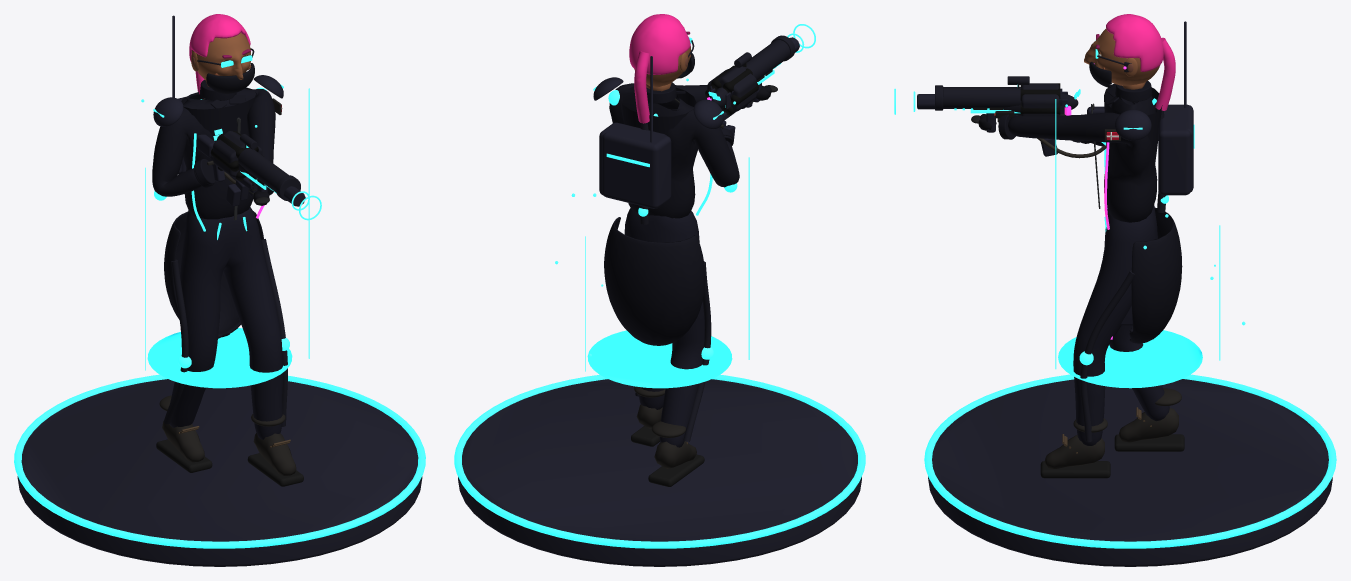
The model's file is kaster_neon.glb.
3 renders of one model, left to right at view 1: azimuth 30°, elevation 25°; view 2: azimuth 150°, elevation 25°; view 3: azimuth 270°, elevation 25°, orthographic.
Parts seen in each view (by area): view 1: fod_net, menneske_net, op4.002_net, hoved_net, vaaben_net, op4.001_net, op3.001_net, op3_net; view 2: fod_net, menneske_net, op4.001_net, op4.002_net, hoved_net, vaaben_net, op3.001_net, ned4_net; view 3: fod_net, menneske_net, op4.002_net, hoved_net, vaaben_net, ned4_net, op4.001_net, op3.001_net.
Boxes of the visible parts, x1,y1,x2,y2 form: fod_net: (14,374,425,566); menneske_net: (152,79,303,486); op4.002_net: (141,88,309,388); hoved_net: (189,14,254,94); vaaben_net: (196,131,300,200); op4.001_net: (154,87,289,426); op3.001_net: (153,15,283,126); op3_net: (226,184,305,206); fod_net: (454,374,865,566); menneske_net: (604,82,777,486); op4.001_net: (602,90,737,441); op4.002_net: (555,78,749,388); hoved_net: (629,14,694,123); vaaben_net: (705,35,795,121); op3.001_net: (593,56,723,142); ned4_net: (599,122,666,194); fod_net: (924,374,1336,566); menneske_net: (971,81,1184,478); op4.002_net: (1055,99,1245,388); hoved_net: (1084,14,1175,110); vaaben_net: (935,76,1104,142); ned4_net: (1158,107,1191,195); op4.001_net: (1079,104,1194,442); op3.001_net: (1115,21,1186,140).
Bounding box in the file's own units: 1.94 × 2.42 × 2.08.
